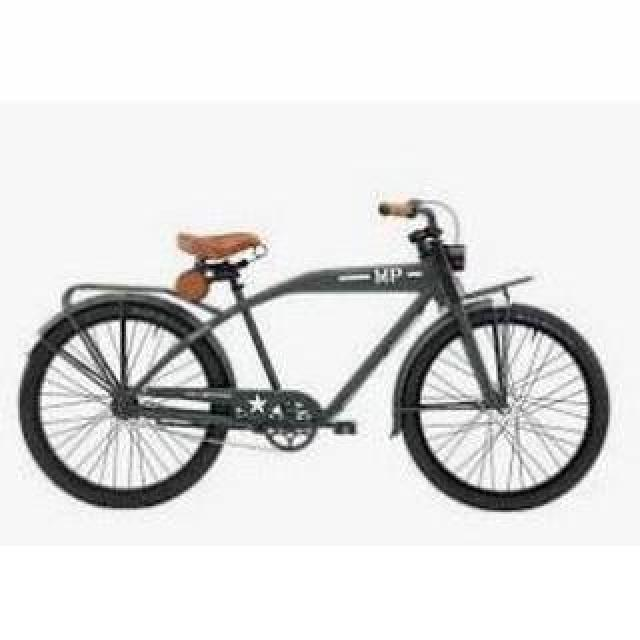Person: (13, 193, 613, 513)
